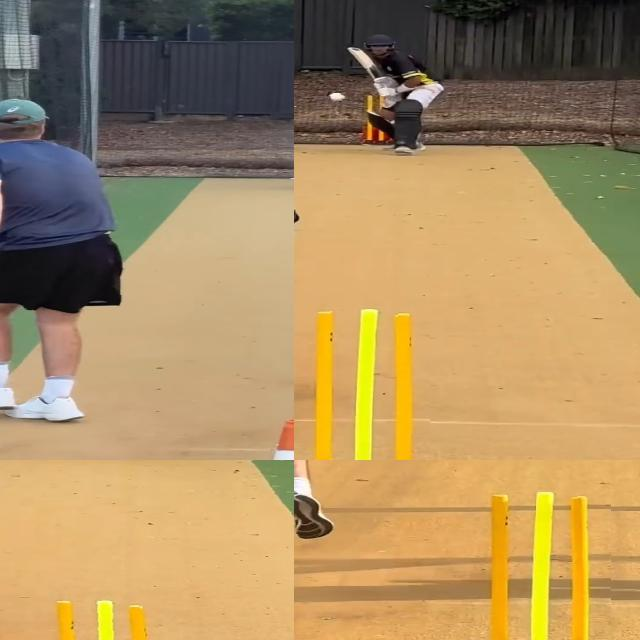Cricket ball: (328, 92, 348, 104)
Stumps: (296, 308, 429, 460), (475, 492, 610, 640), (37, 597, 159, 640)
